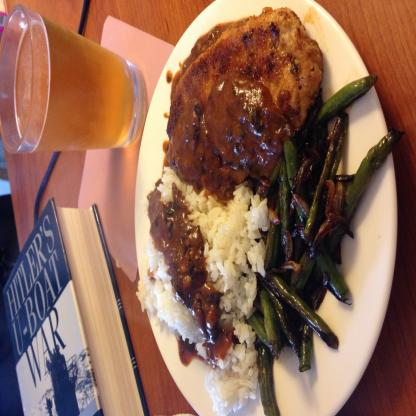book: (4, 199, 148, 416)
